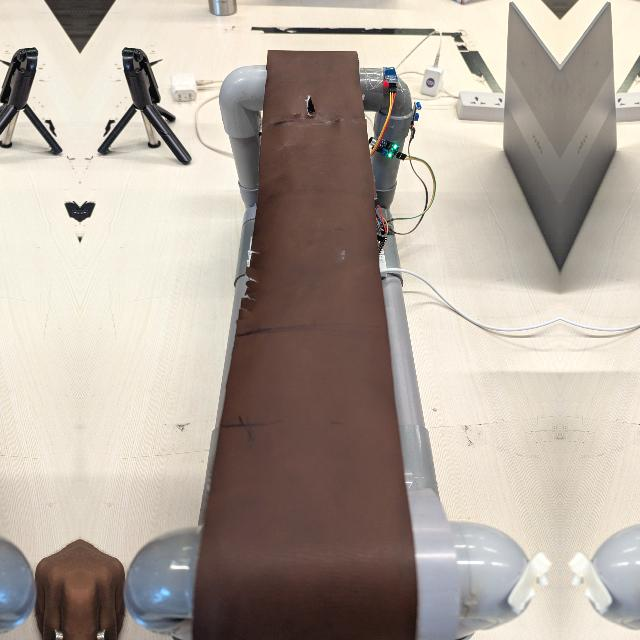edge_damage: (229, 226, 267, 317)
joint_damage: (293, 86, 321, 119)
